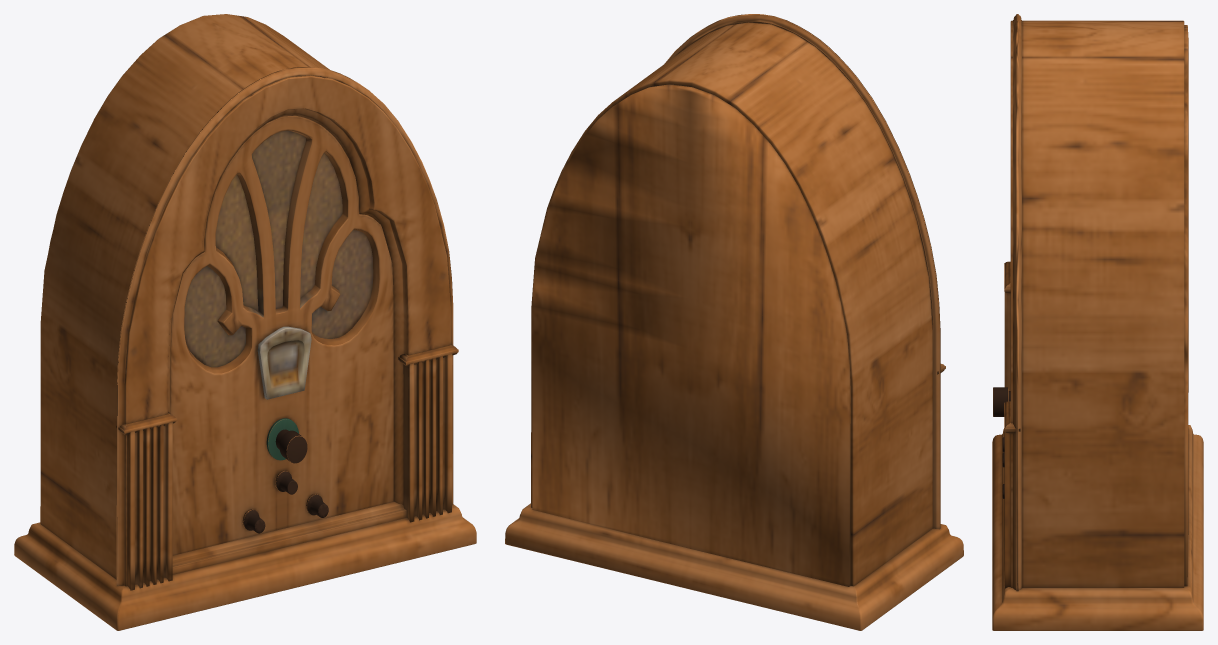
The model's file is asset.glb.
3 views of the same model, side by side, from view 1: azimuth 30°, elevation 25°; view 2: azimuth 150°, elevation 25°; view 3: azimuth 270°, elevation 25° (orthographic). The views are drawn at different scales.
Parts seen in each view (by area): view 1: Radio.002; view 2: Radio.002; view 3: Radio.002.
Part boxes in pixels (left/top/right/bottom): Radio.002: left=14, top=14, right=476, bottom=630; Radio.002: left=505, top=14, right=963, bottom=630; Radio.002: left=992, top=14, right=1203, bottom=630.
Bounding box in the file's own units: 4.29 × 5.8 × 2.15.
1 material, 1 textured.
